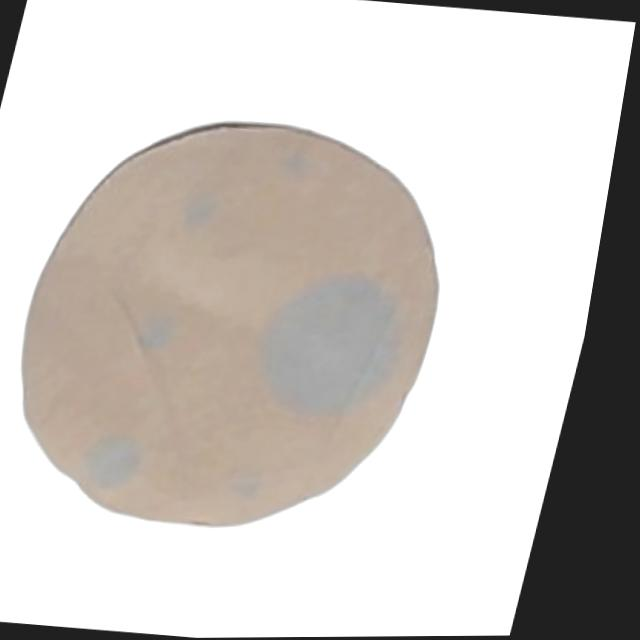BlueColor: (264, 275, 399, 413), (87, 436, 138, 489), (184, 193, 218, 226), (137, 317, 171, 348), (226, 473, 264, 498), (283, 141, 309, 173)
